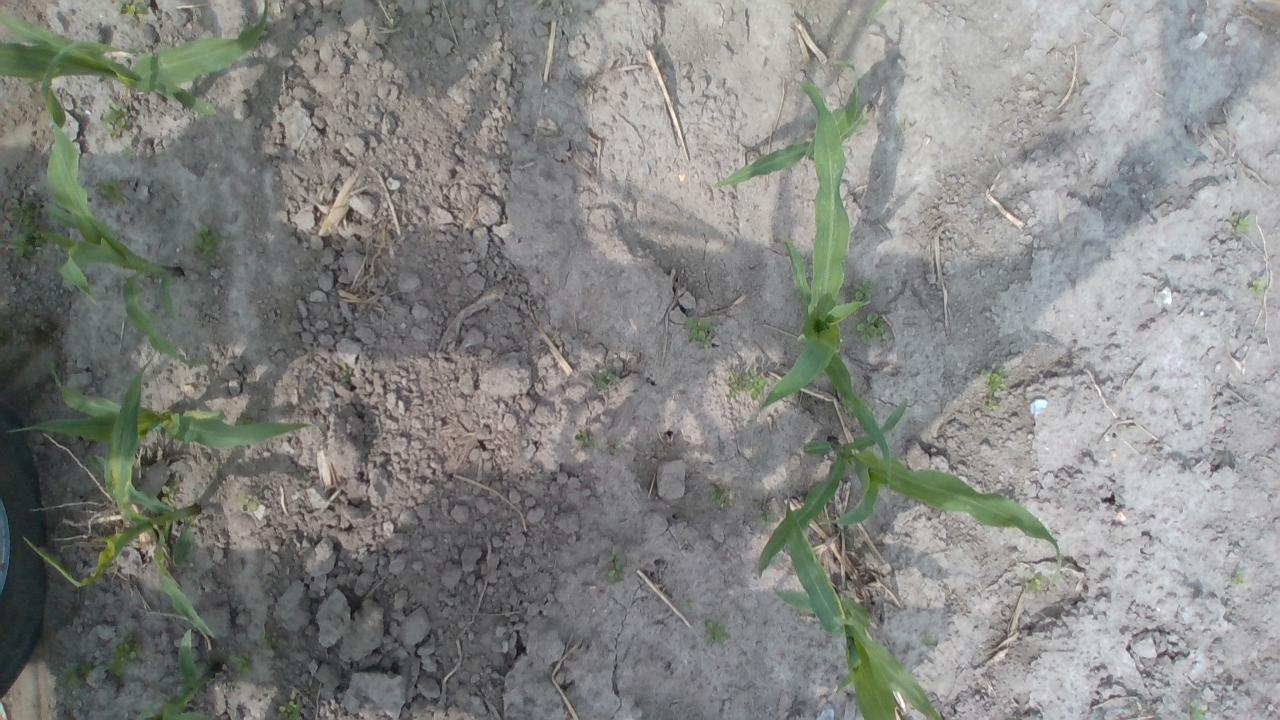Maize: (20, 362, 223, 655), (754, 396, 1067, 580), (758, 78, 894, 468), (770, 494, 952, 718), (34, 119, 188, 366), (0, 0, 277, 129), (11, 362, 336, 450), (705, 56, 865, 194), (131, 626, 223, 718)
Weeds: (7, 188, 43, 260), (724, 366, 766, 402), (856, 308, 892, 348), (192, 224, 218, 266), (62, 654, 89, 692), (684, 316, 716, 348), (92, 180, 130, 206), (982, 366, 1004, 409), (1024, 570, 1071, 590), (113, 1, 155, 23), (106, 644, 134, 676), (101, 103, 128, 136), (851, 276, 879, 304), (704, 619, 728, 650), (224, 651, 248, 679), (258, 629, 288, 651), (1234, 211, 1256, 238), (606, 552, 624, 584), (711, 483, 730, 509), (596, 367, 614, 394), (240, 492, 260, 516), (598, 439, 624, 456), (280, 701, 304, 718), (1250, 275, 1268, 297), (574, 428, 592, 448), (1230, 574, 1244, 590), (1194, 709, 1206, 720)
